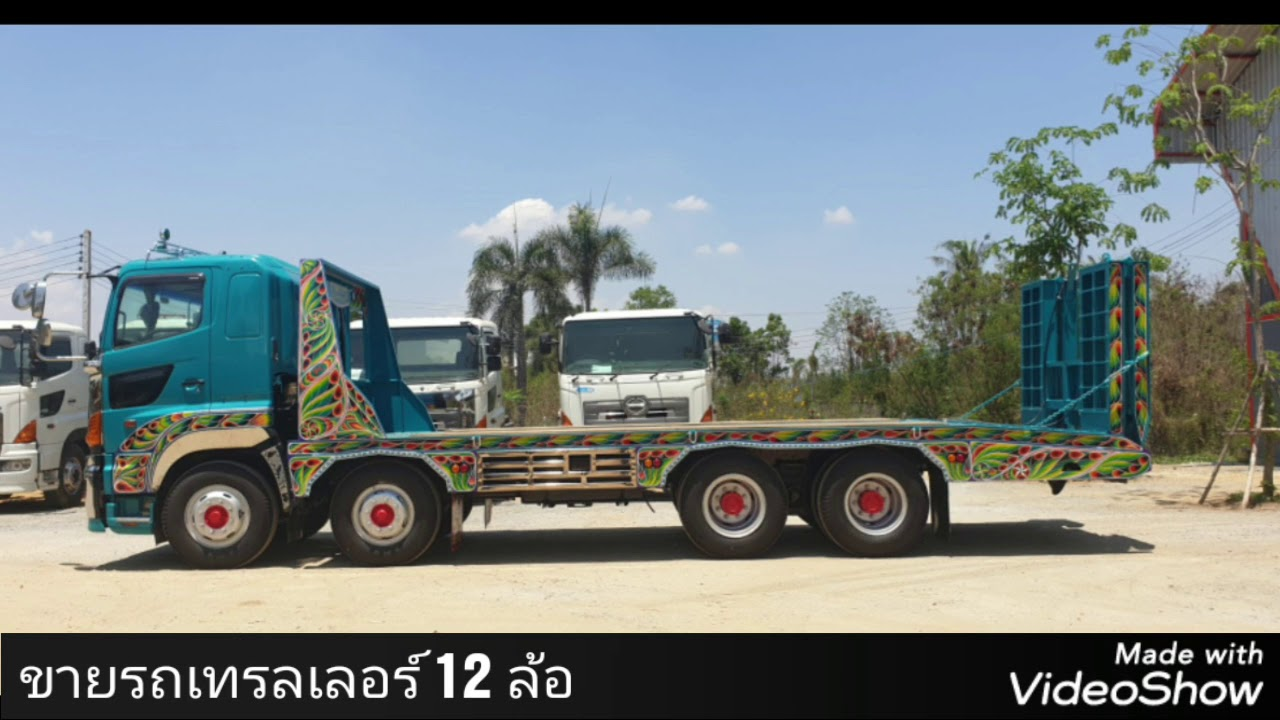truck: (73, 243, 1157, 564)
